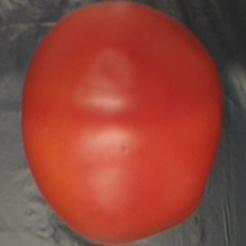unripe: (18, 1, 224, 246)
